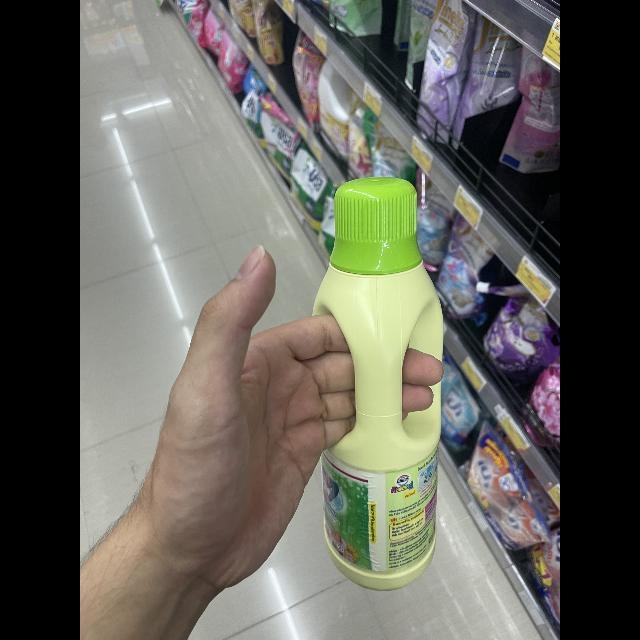chemical_plastic_bottle: (304, 157, 452, 606)
